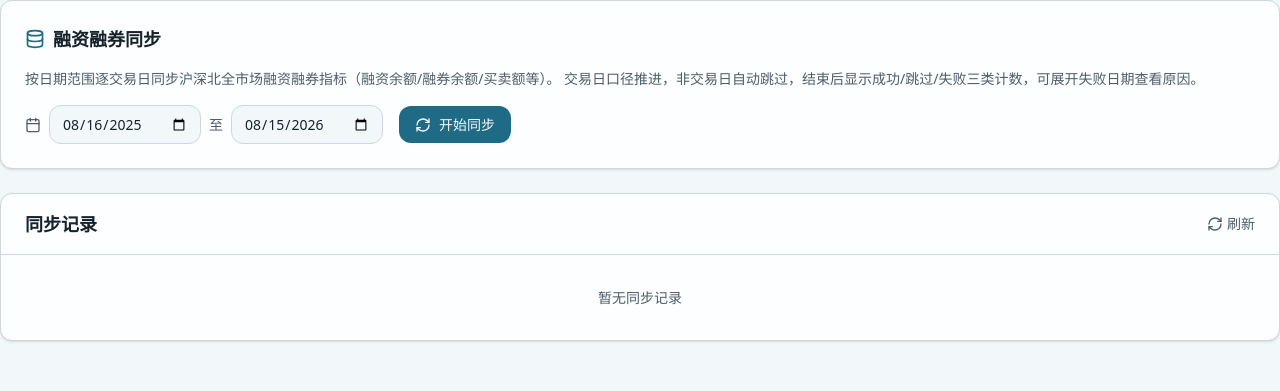
MarginSyncPanel › 创建调用与互斥 › 后端互斥拒绝（success=false 抛错）：展示返回 message
This screenshot has width=1280, height=391.
In the date field named "开始日期": (125, 124) [49,105,201,144], type "2026-07-15"
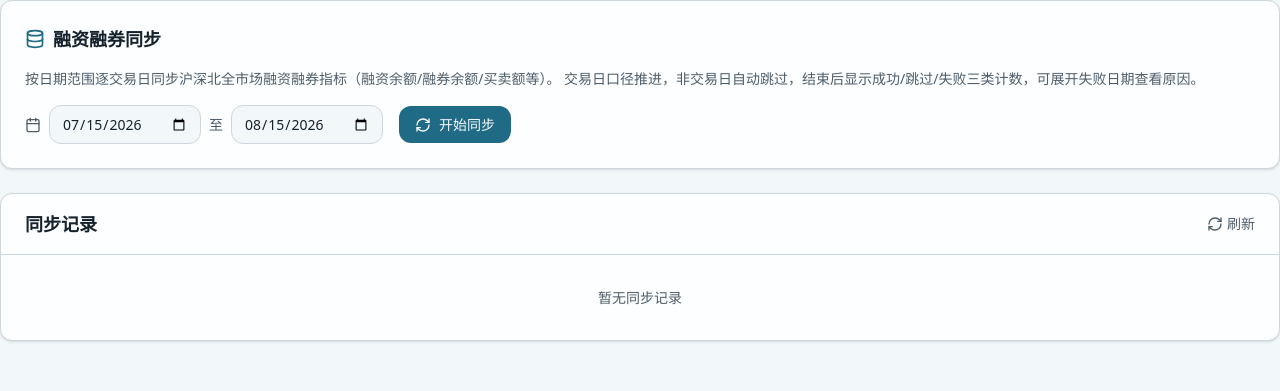
In the date field named "结束日期": (307, 124) [231,105,383,144], type "2026-08-13"
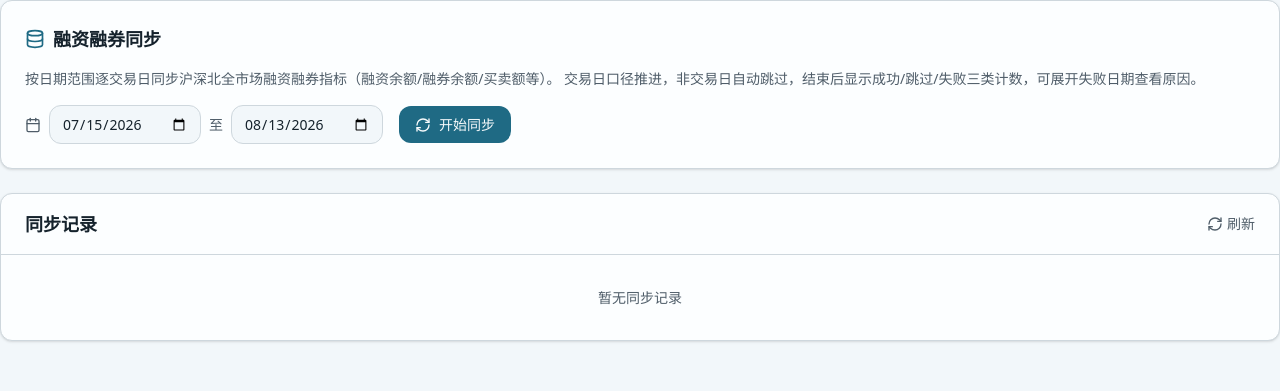
Click the button with test id "margin-sync-start-button": (455, 124) [399,106,511,143]
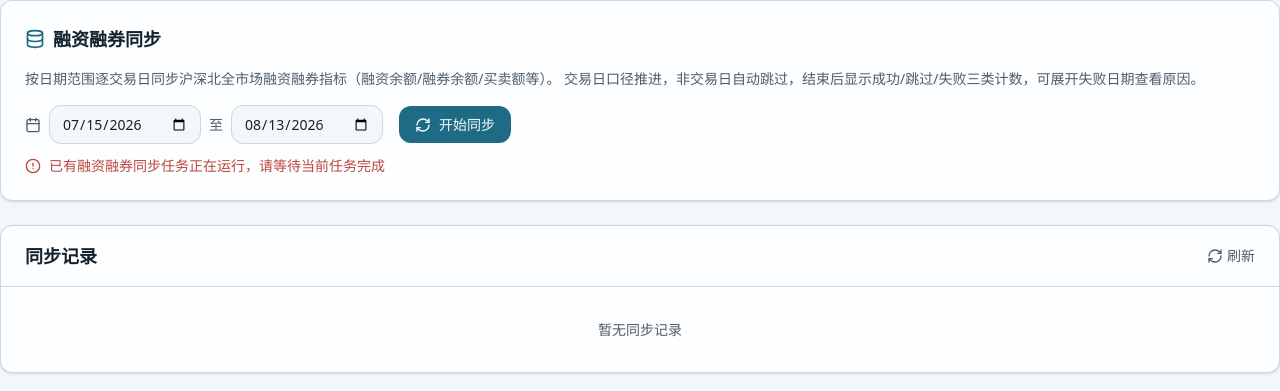
Check: the element with test id "margin-sync-validation-error" reads "已有融资融券同步任务正在运行，请等待当前任务完成", box [49,156,385,175]
